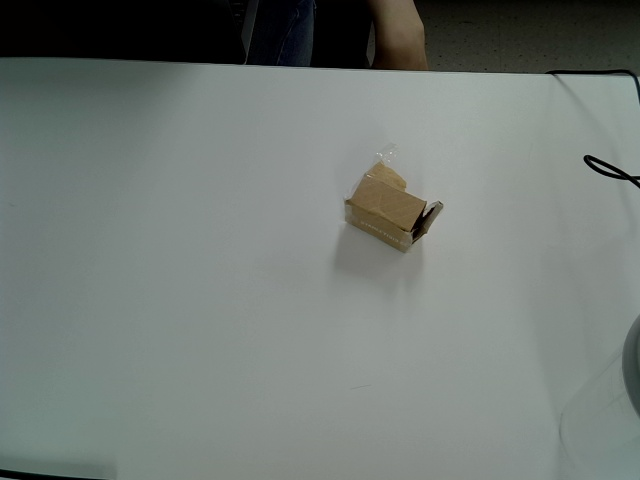defect: (341, 144, 447, 254)
